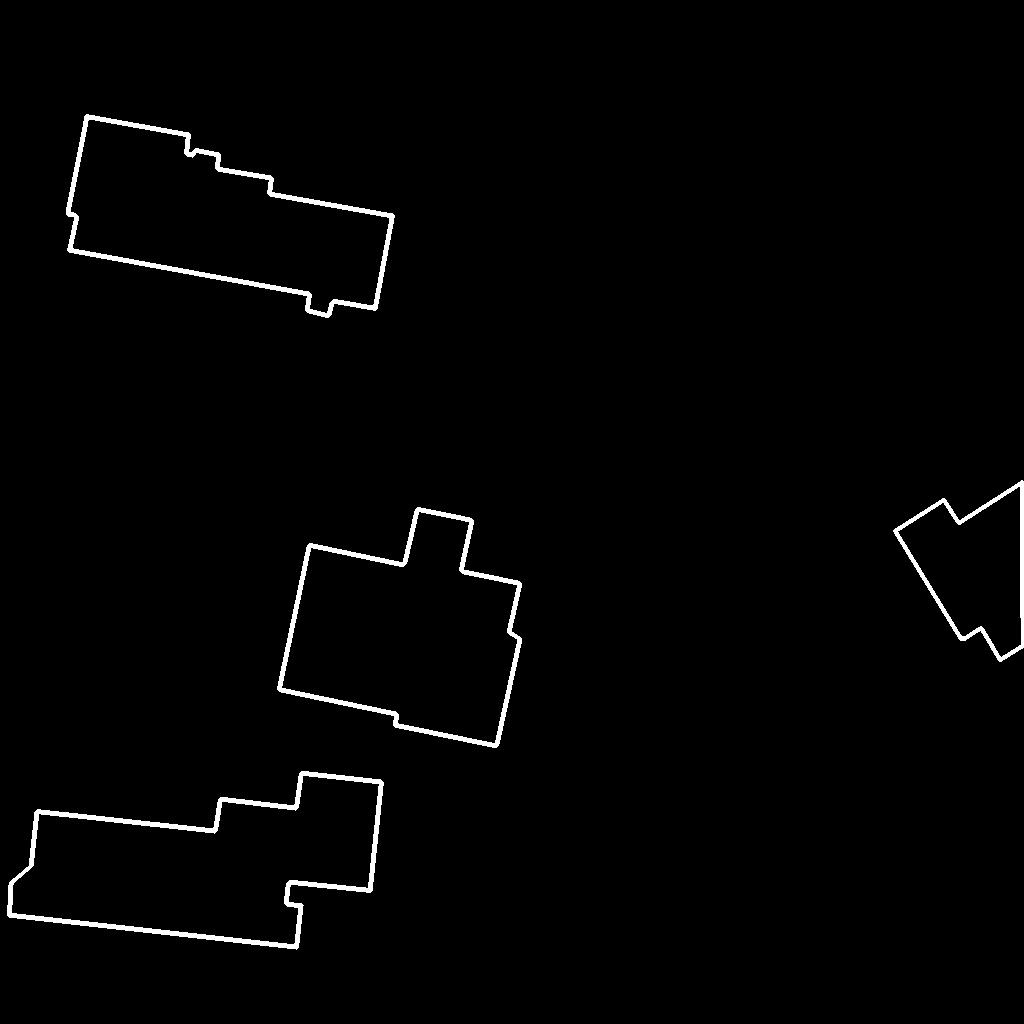building: (68, 116, 394, 317), (9, 773, 383, 948), (279, 509, 521, 747), (895, 482, 1024, 661)
